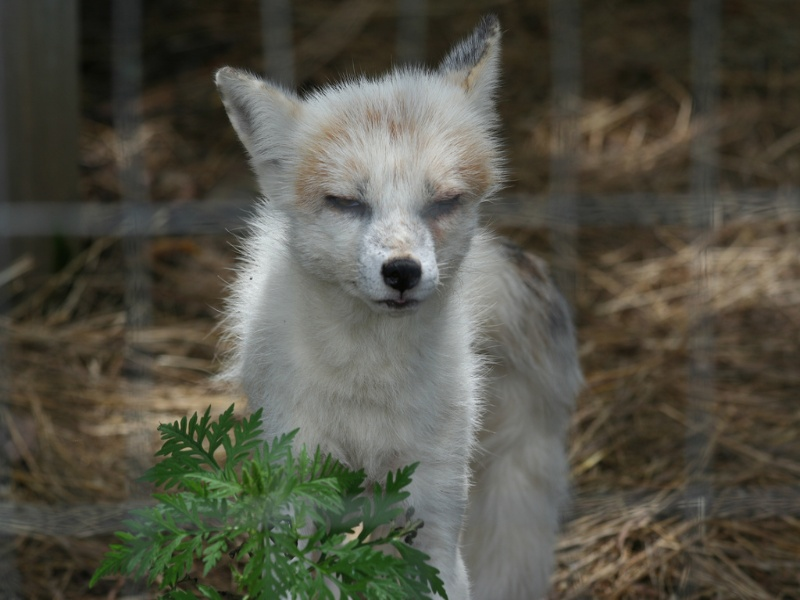fox: (188, 22, 576, 575)
